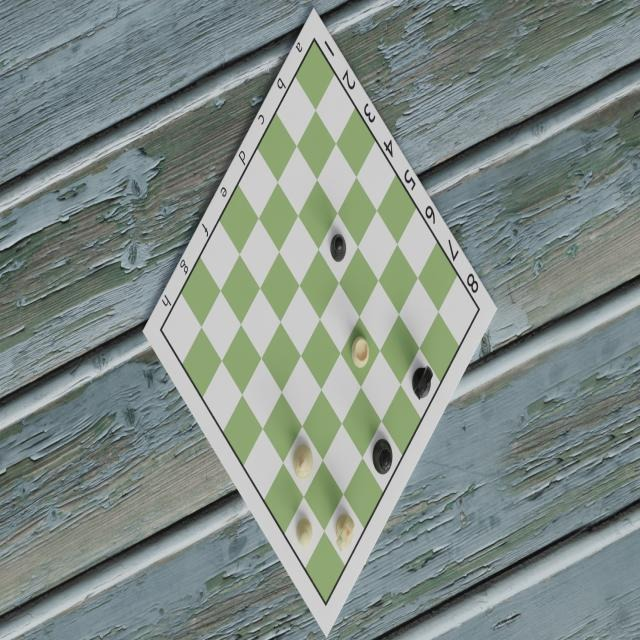black-king: (371, 435, 394, 477)
black-knight: (410, 361, 433, 403)
black-pawn: (329, 228, 347, 265)
white-king: (293, 441, 314, 481)
white-knight: (336, 509, 356, 550)
white-pawn: (296, 514, 314, 550)
white-rook: (352, 335, 372, 375)
